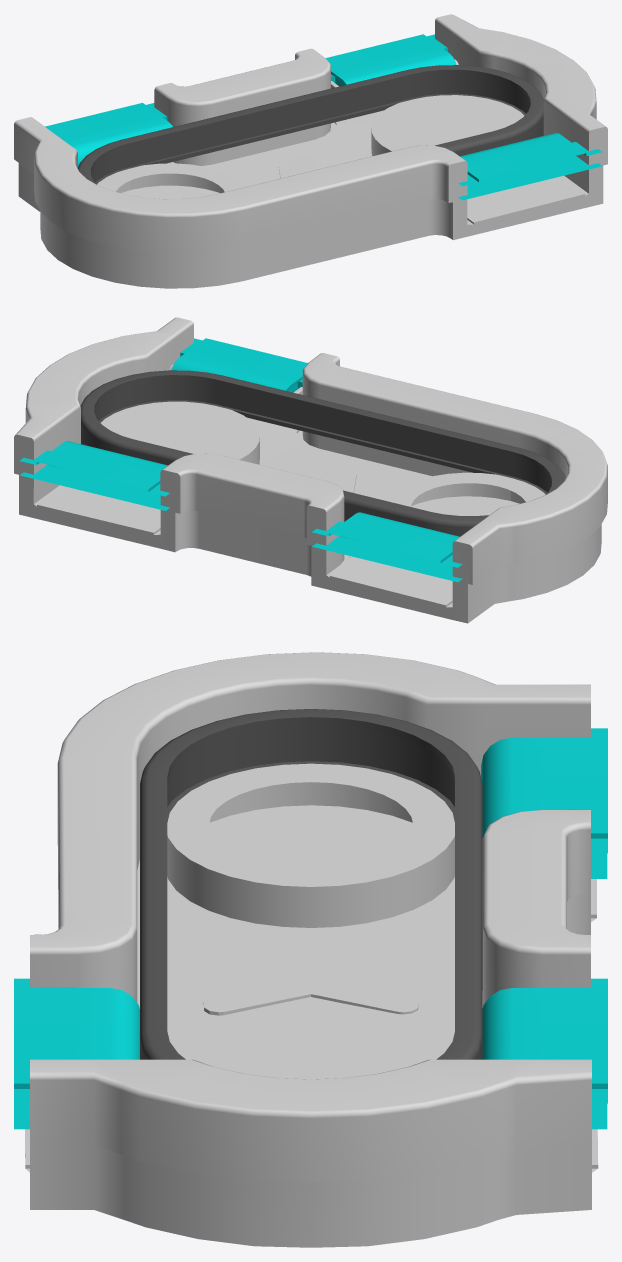
File: CutterDefaultInternalVariant.gltf
The picture shows the model from 3 angles, top to bottom: view 1: azimuth 30°, elevation 25°; view 2: azimuth 150°, elevation 25°; view 3: azimuth 270°, elevation 25°; orthographic projection. The views are drawn at different scales.
Parts seen in each view (by area): view 1: Cutter_Default_Main_LOD0, Cutter_Default_Ribbon_LOD0; view 2: Cutter_Default_Main_LOD0, Cutter_Default_Ribbon_LOD0; view 3: Cutter_Default_Main_LOD0, Cutter_Default_Ribbon_LOD0.
Boxes of the visible parts, box(x1,y1,x2,y2) form: Cutter_Default_Main_LOD0: box(14, 14, 607, 288); Cutter_Default_Ribbon_LOD0: box(77, 65, 543, 184); Cutter_Default_Main_LOD0: box(14, 317, 607, 623); Cutter_Default_Ribbon_LOD0: box(80, 370, 565, 536); Cutter_Default_Main_LOD0: box(14, 652, 607, 1247); Cutter_Default_Ribbon_LOD0: box(140, 709, 482, 1059).
Size of the model in its own units: 1.85 by 0.26 by 1.
